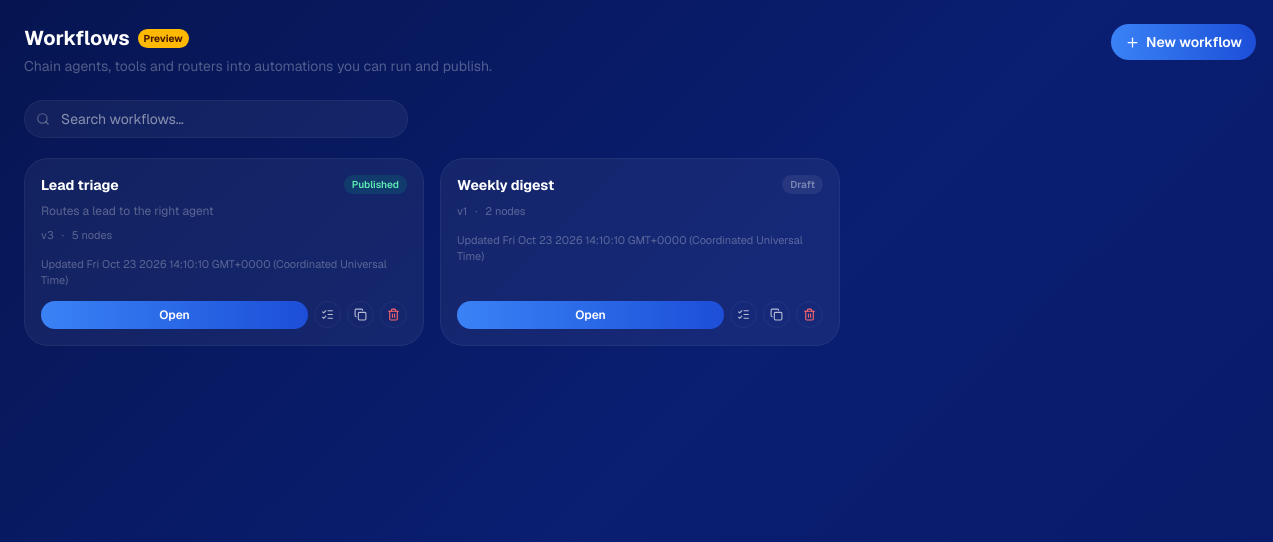
WorkflowsPage › filters by name via the search box
The width and height of the screenshot is (1273, 542).
Expected: the heading "Lead triage" is shown, [41,176,119,194]
Type "digest" into the field with placeholder "Search workflows…" at (216, 119), box [24,100,408,138]
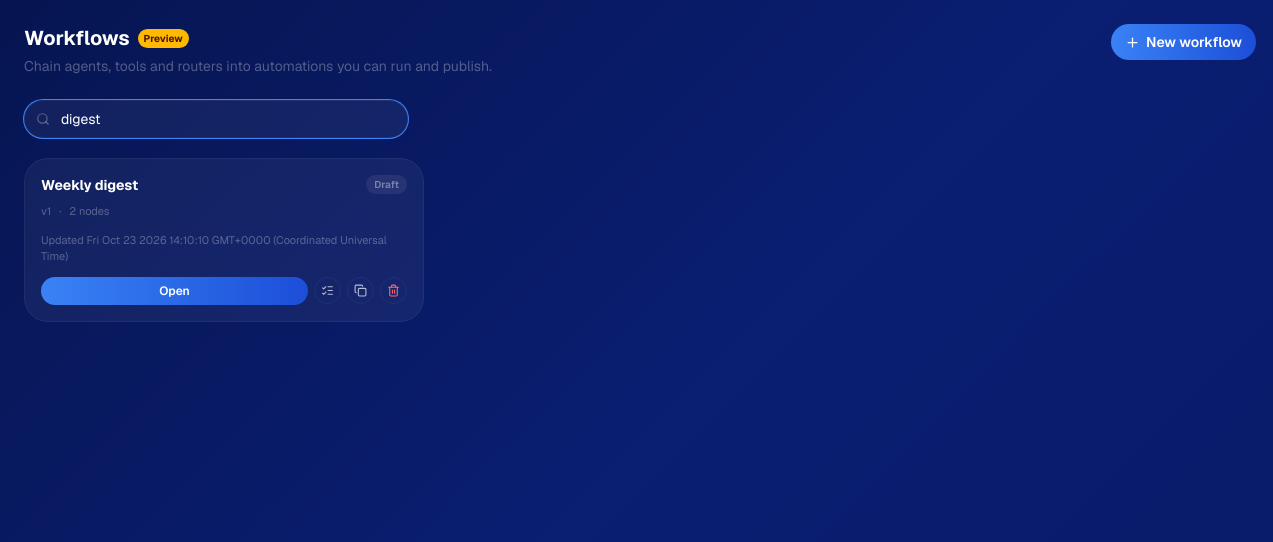
Expected: the heading "Weekly digest" is shown, [41,176,138,194]
Now the link "Lead triage" is gone
